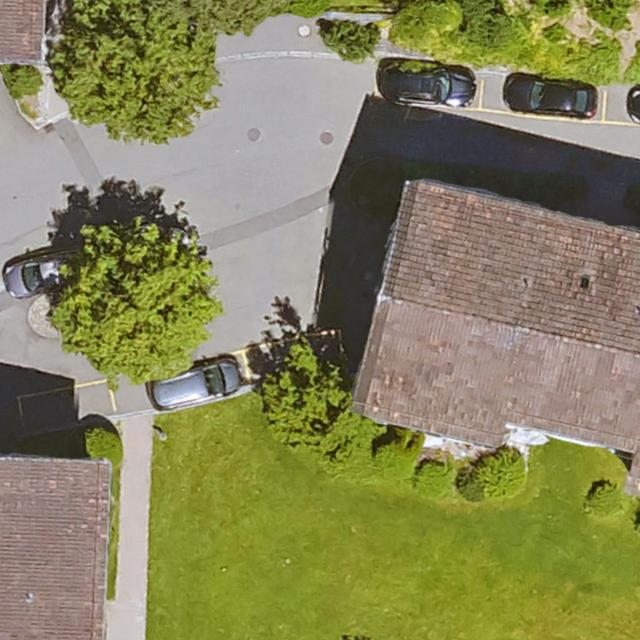tree: (49, 217, 216, 381), (55, 0, 216, 136), (261, 345, 361, 465), (327, 19, 382, 58)
